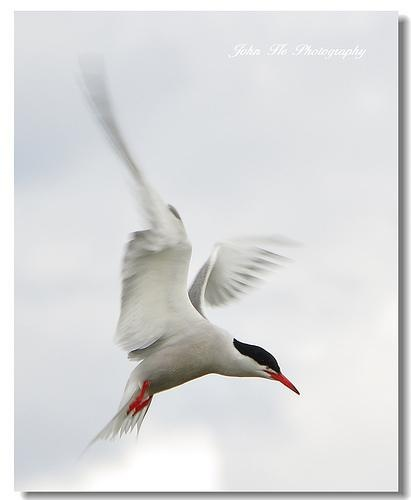bird: (57, 45, 300, 446)
